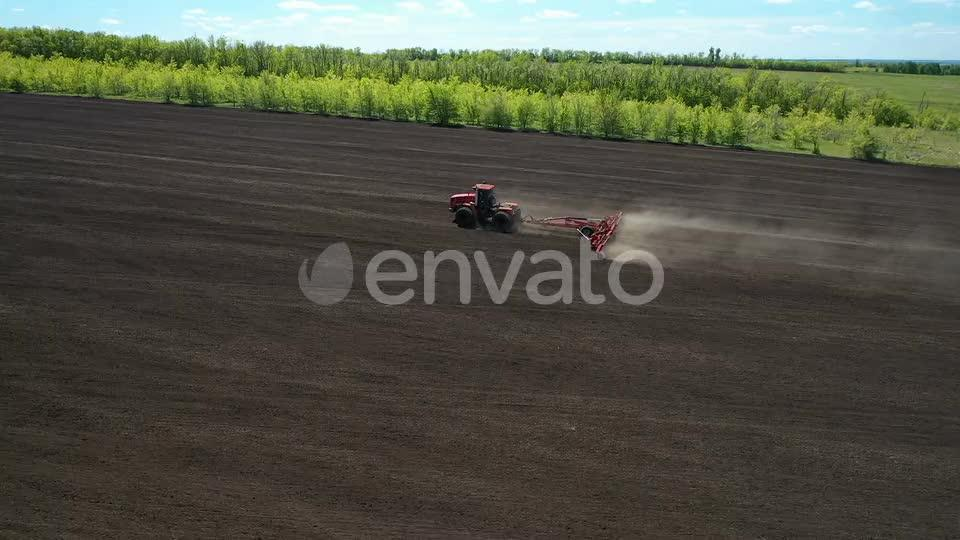tractor: (445, 182, 525, 234)
